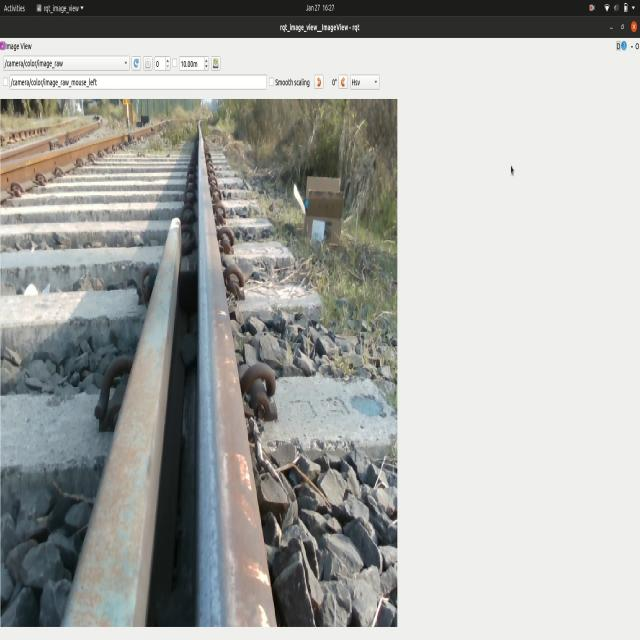overrailed: (235, 340, 310, 432)
